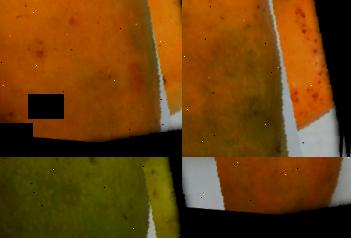PartiallyRipe: (0, 0, 182, 157), (182, 0, 351, 157), (182, 157, 351, 235)
Unripe: (0, 157, 182, 238)
